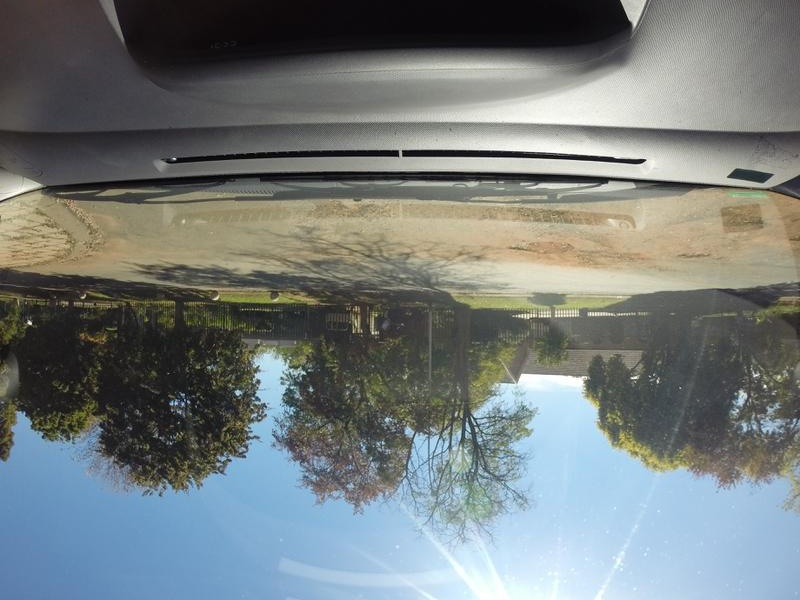pothole: (510, 227, 587, 259), (677, 250, 715, 264)
